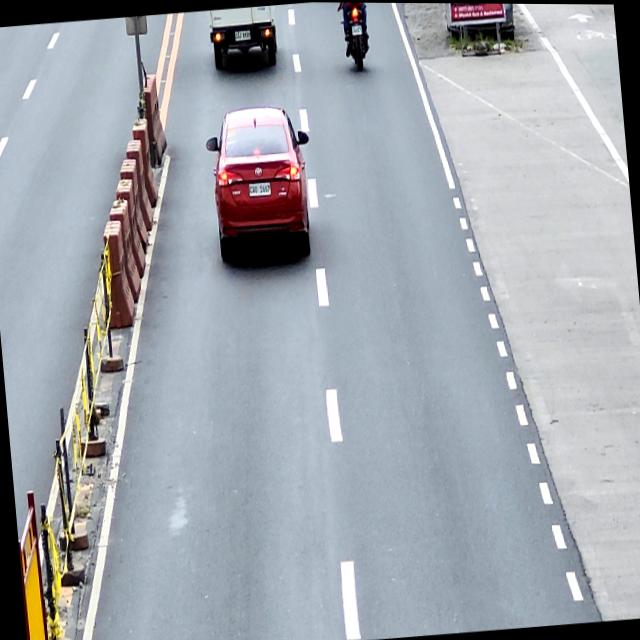Car: (202, 101, 318, 263), (208, 4, 280, 71)
License-Plate: (248, 180, 270, 197), (233, 28, 250, 40), (350, 24, 362, 34)
Motorcycle: (340, 2, 371, 72)
